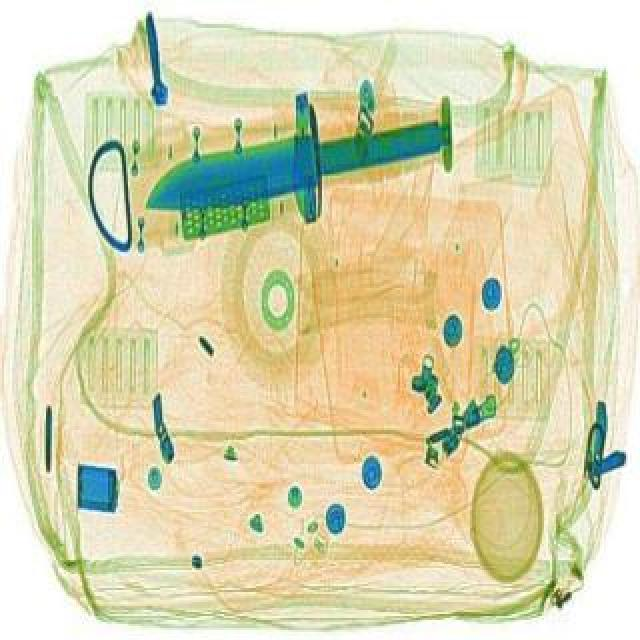knife: (126, 58, 474, 258)
